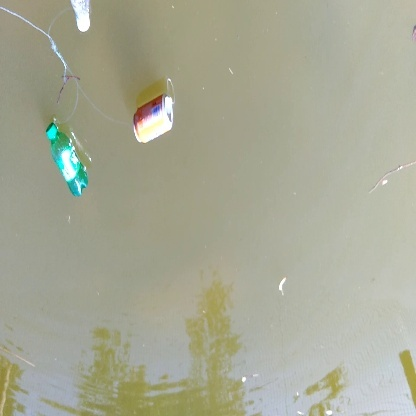bottle: (41, 119, 100, 198), (129, 87, 188, 161)
